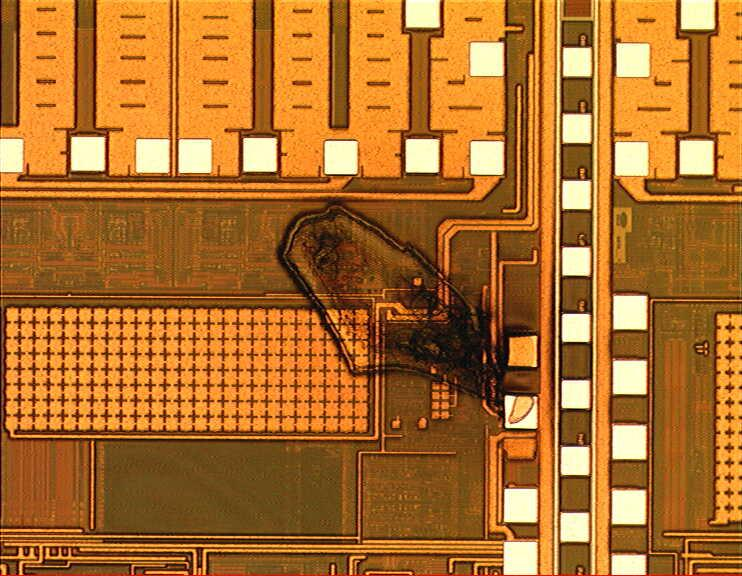PIQ PARTICLE: (276, 197, 541, 426)
